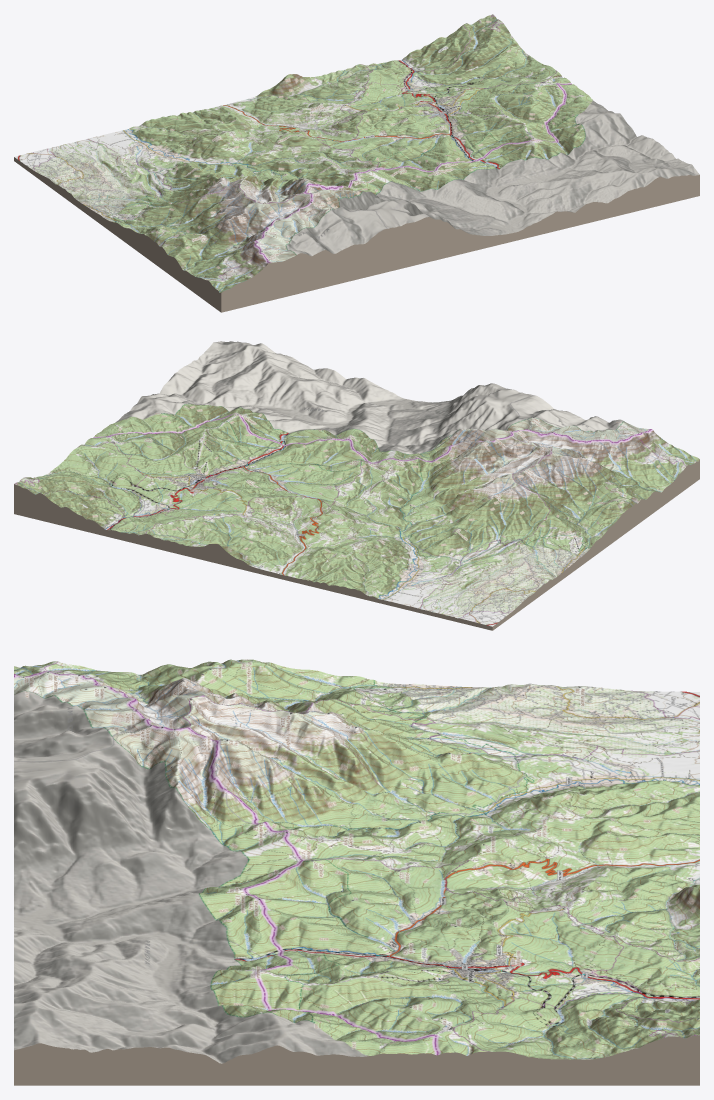
3 renders of one model, top to bottom at view 1: azimuth 30°, elevation 25°; view 2: azimuth 150°, elevation 25°; view 3: azimuth 270°, elevation 25°, orthographic. The views are drawn at different scales.
Visible parts, largest first — view 1: BV50-F4 Predeal; view 2: BV50-F4 Predeal; view 3: BV50-F4 Predeal.
Boxes of the visible parts, x1=… form: BV50-F4 Predeal: x1=14, y1=14, x2=699, y2=312; BV50-F4 Predeal: x1=14, y1=341, x2=699, y2=630; BV50-F4 Predeal: x1=14, y1=659, x2=699, y2=1085.
Bounding box in the file's own units: 20001 × 1974 × 15000.
Materials: 7 (1 with a texture image).
